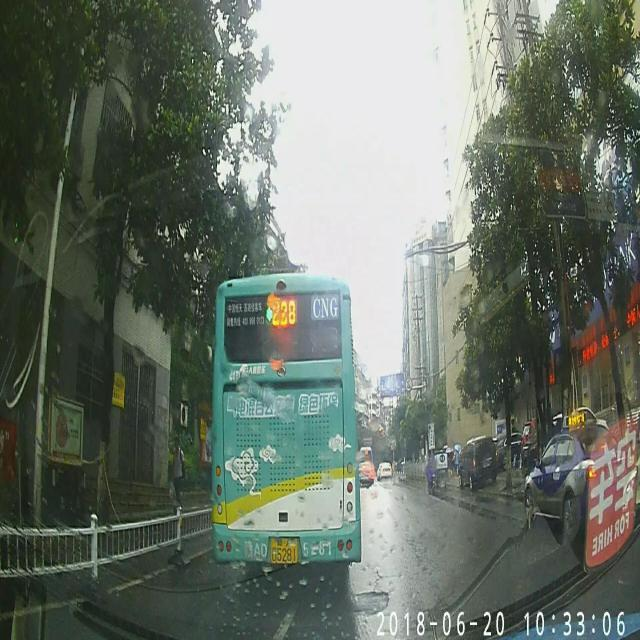car: (524, 414, 622, 538), (459, 435, 497, 487), (358, 460, 373, 487), (379, 462, 392, 480)
